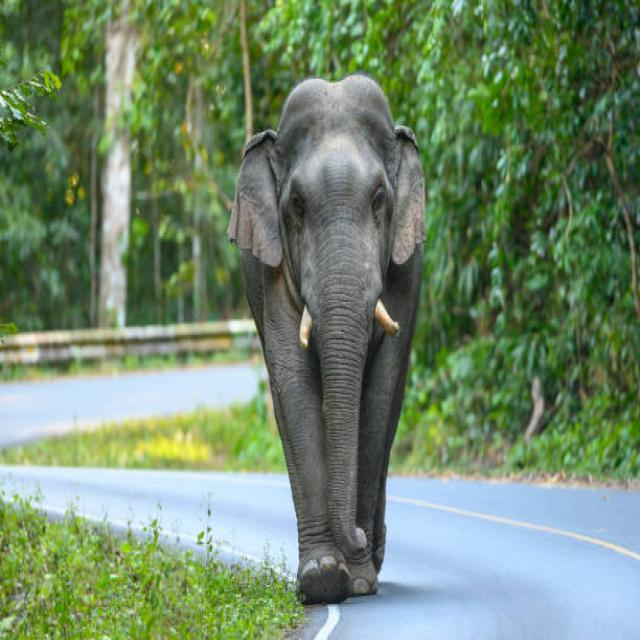Elephant: (232, 65, 437, 622)
